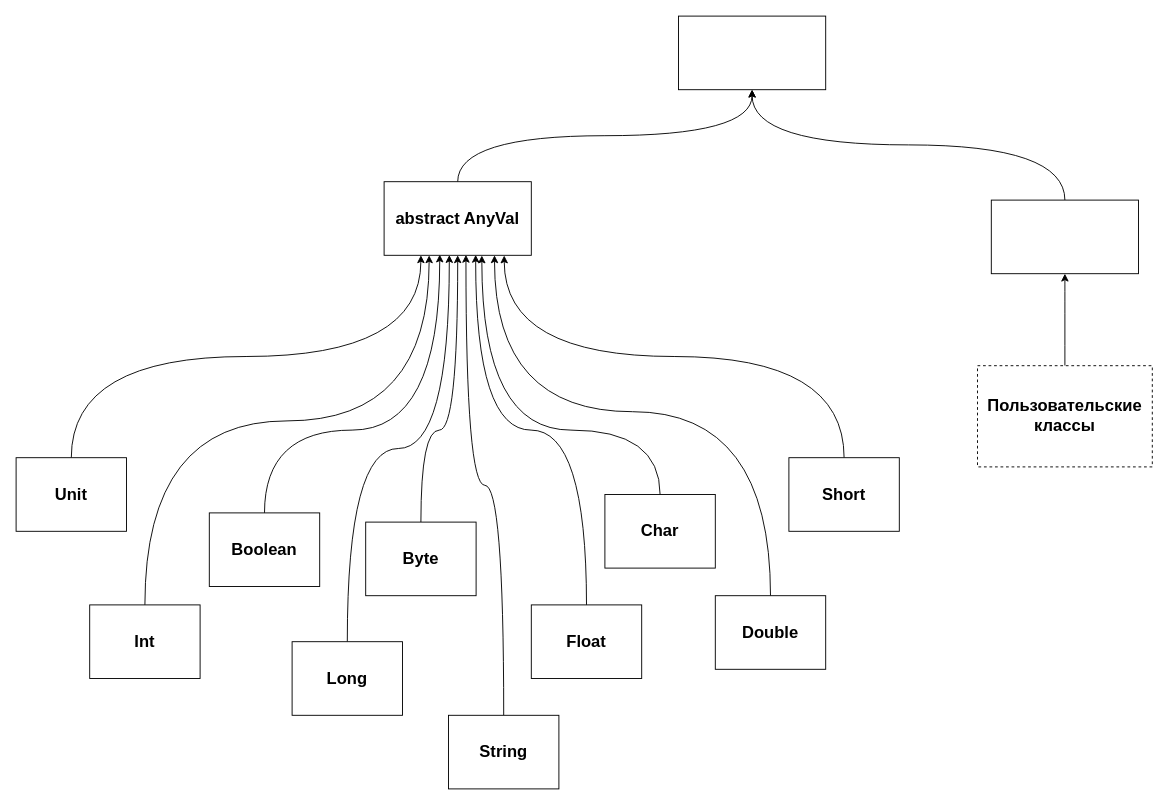
The diagram is 1168 pixels wide and 805 high, and some of its shapes have lost their labels. Each missing label, with the box of its shape:
abstract Any: (678, 15, 826, 90)
abstract AnyRef: (990, 199, 1138, 274)
